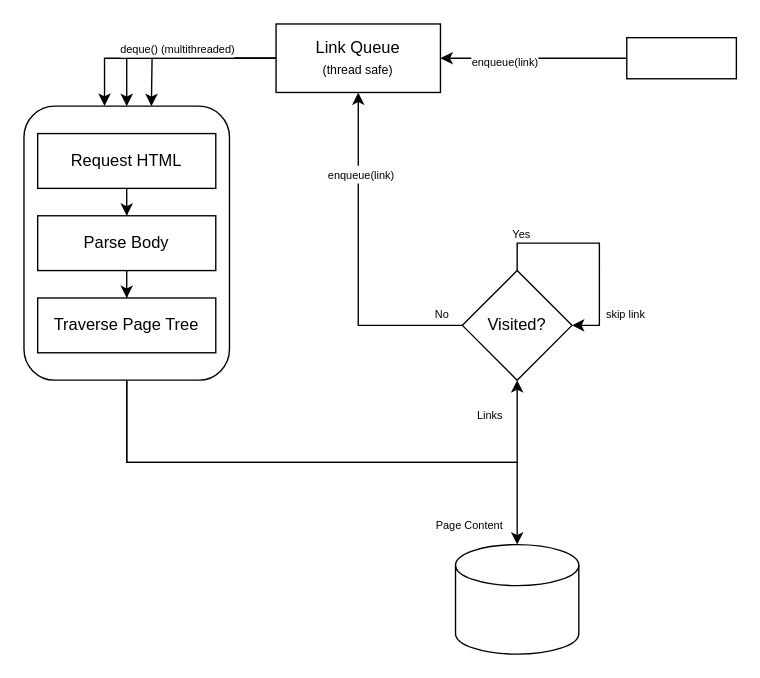
Image size: 760x678. Some labels were removed from this diagram. Here are the shapes that lost their labels. From the top down, the centre of each, then its label:
the point at 680,57: Starting URL
the point at 516,598: SQLite
